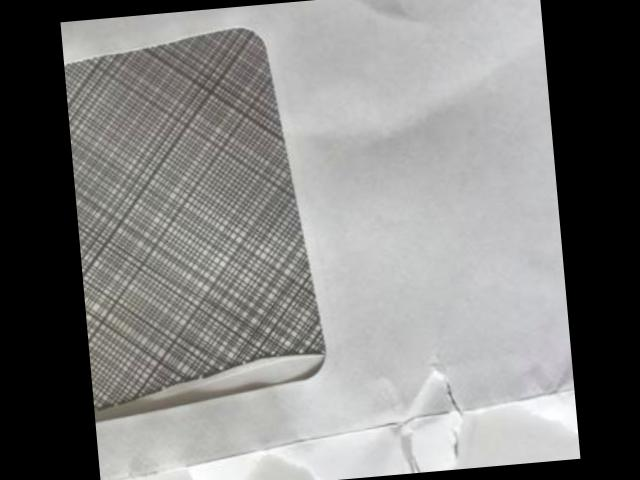cardboard paper: (60, 0, 574, 480)
